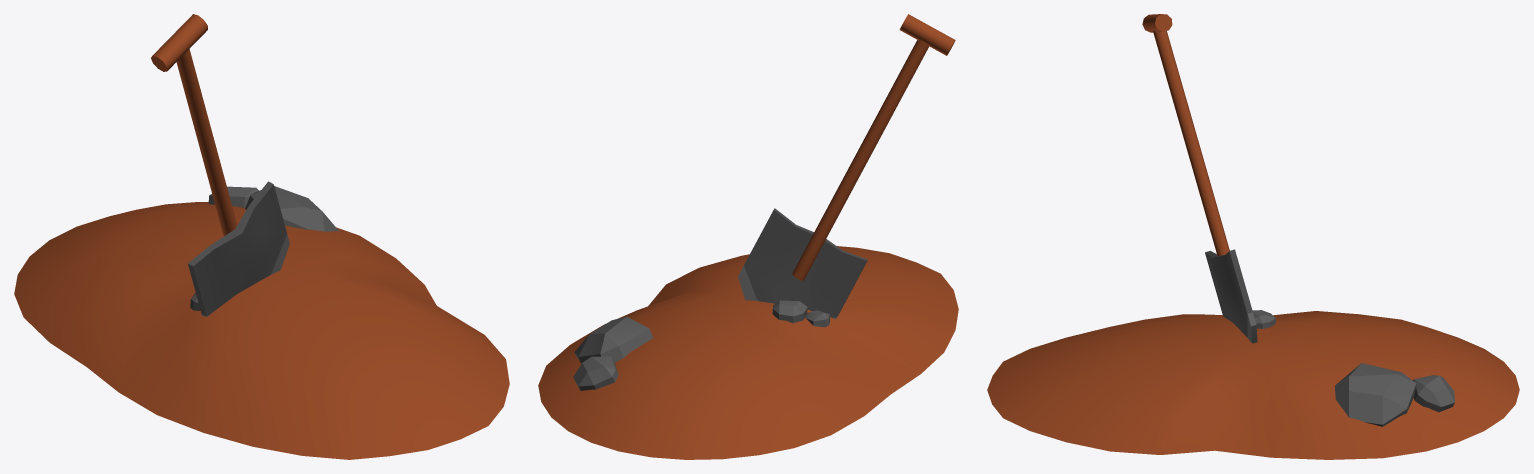
Rendered from 무덤 오브젝트 1.FBX.
The picture shows the model from 3 angles, left to right: view 1: azimuth 30°, elevation 25°; view 2: azimuth 150°, elevation 25°; view 3: azimuth 270°, elevation 25°; orthographic projection. The views are drawn at different scales.
Parts seen in each view (by area): view 1: Sphere001; view 2: Sphere001; view 3: Sphere001.
Part boxes in pixels (x1,y1,x2,y2): Sphere001: [14, 14, 509, 459]; Sphere001: [538, 14, 958, 459]; Sphere001: [987, 14, 1519, 459].
Bounding box in the file's own units: 11.22 × 17.84 × 12.02.
